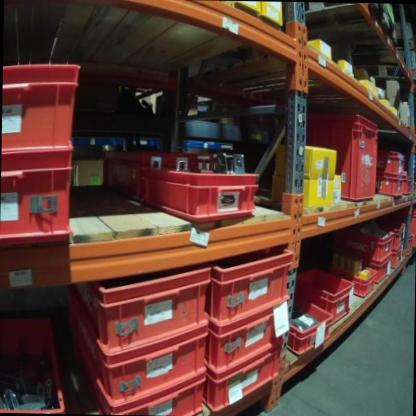pallet: (284, 2, 397, 46), (352, 59, 416, 82)
small_load_carrier: (61, 266, 209, 355), (78, 325, 210, 409), (3, 60, 83, 168), (2, 151, 75, 260), (206, 239, 296, 323), (139, 162, 259, 222), (0, 312, 68, 413), (207, 296, 287, 380), (306, 114, 379, 198), (204, 343, 282, 412), (90, 369, 208, 414), (107, 148, 212, 196), (297, 266, 354, 321), (288, 303, 334, 359), (330, 231, 389, 259), (345, 270, 372, 298), (370, 223, 405, 244), (376, 173, 404, 198), (377, 151, 406, 171), (363, 259, 388, 282), (400, 209, 415, 244), (389, 244, 406, 265), (402, 177, 413, 192)
